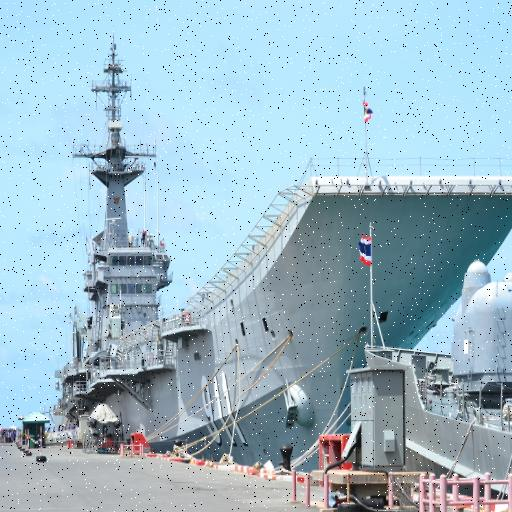Portanaves: (53, 23, 512, 489)
